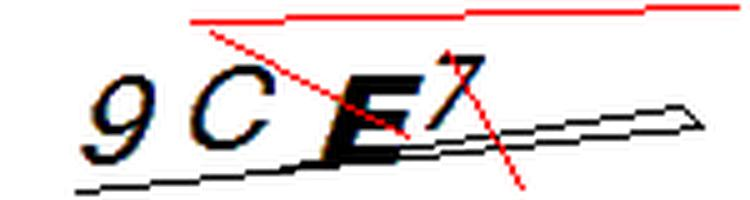7: (416, 44, 500, 138)
9: (70, 67, 164, 168)
C: (182, 62, 285, 158)
E: (314, 65, 431, 176)
